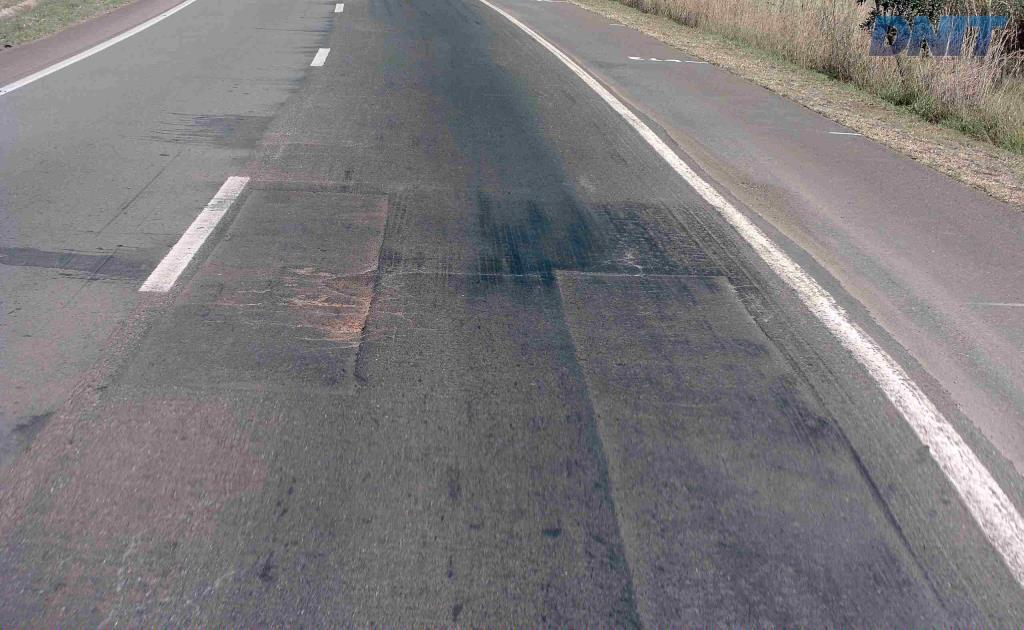pothole: (322, 320, 365, 334)
